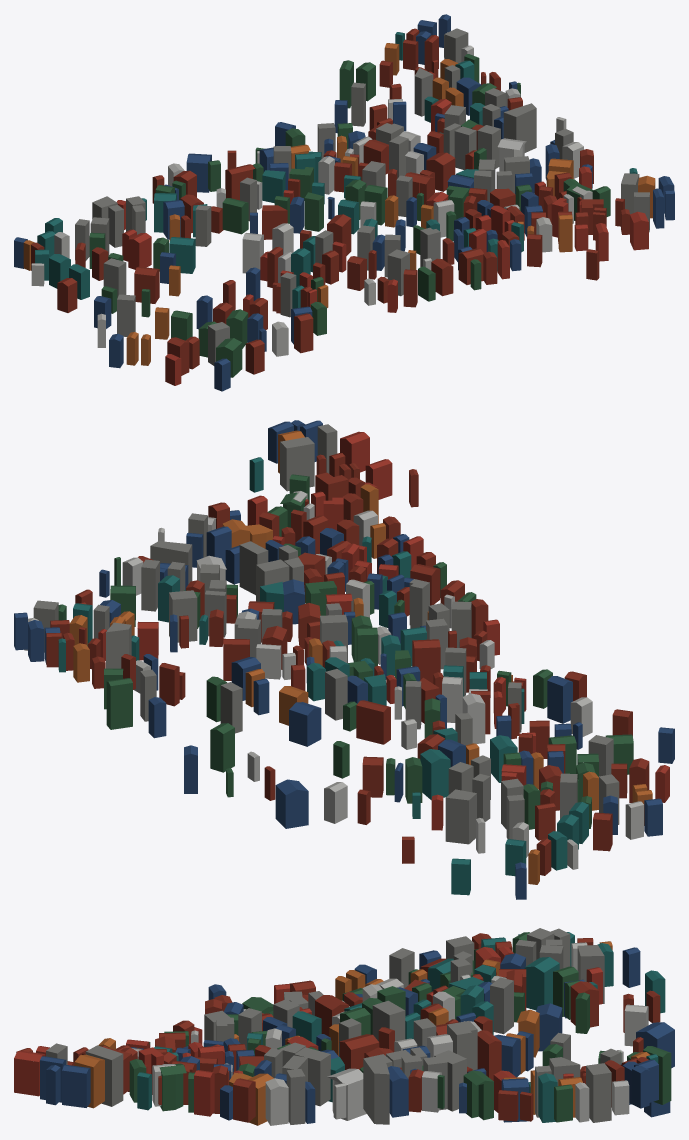
File: near-17-109428-59476.f01e2281.glb
3 renders of one model, top to bottom at view 1: azimuth 30°, elevation 25°; view 2: azimuth 150°, elevation 25°; view 3: azimuth 270°, elevation 25°, orthographic. The views are drawn at different scales.
Size of the model in its own units: 301 by 103 by 299.
